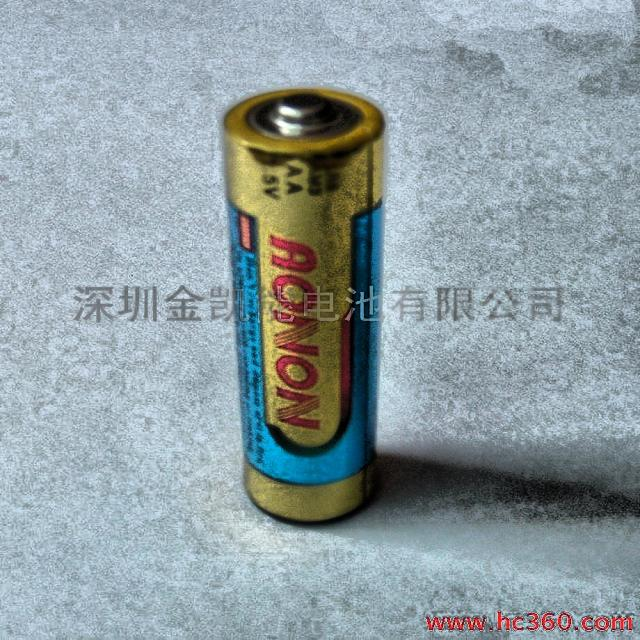Non-Valuable Waste - Batteries: (225, 89, 384, 522)
